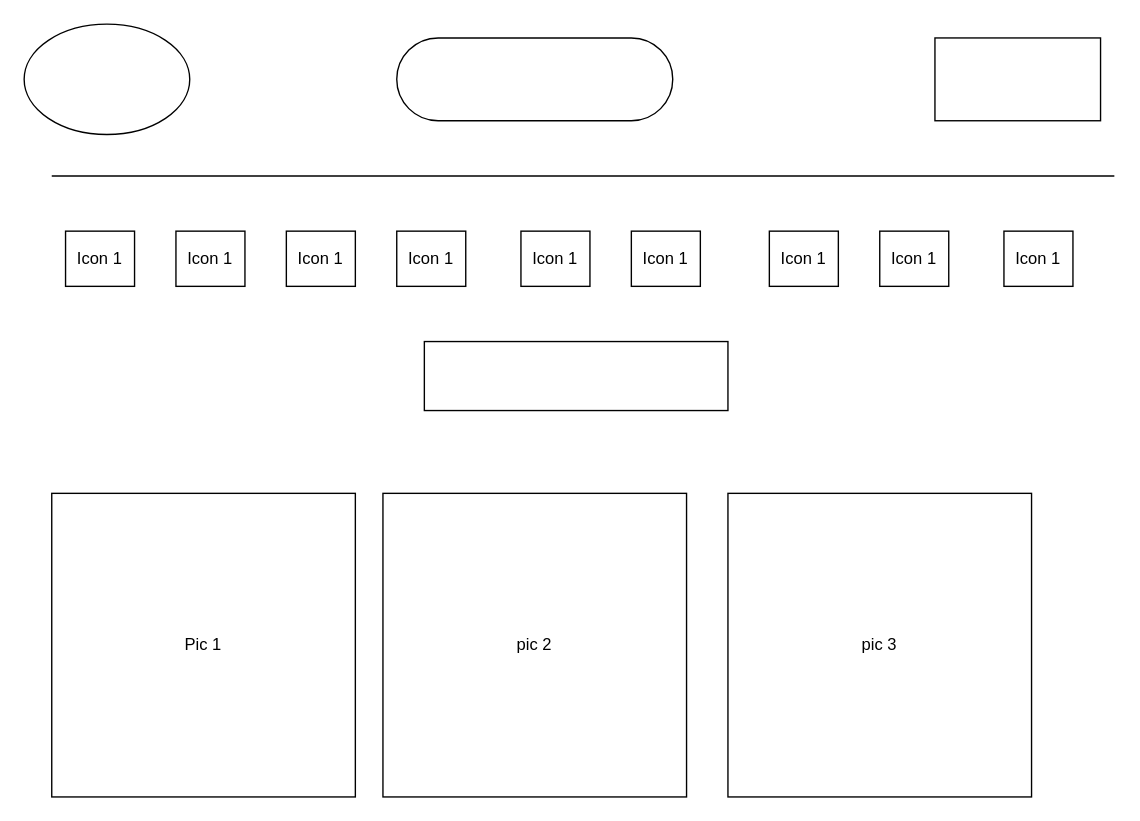
The diagram is 1140 pixels wide and 821 high, and some of its shapes have lost their labels. Here are the shapes that lost their labels. From the top down, the box of each, then its label:
(23, 23, 190, 135): Logo
(395, 37, 673, 121): word 1 | word 2 | something else
(934, 37, 1101, 121): sign in
(423, 340, 728, 411): Price Filter
